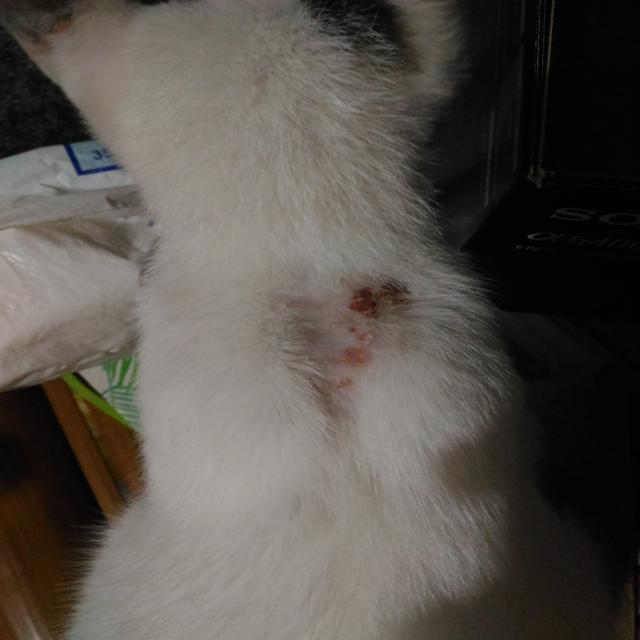hac lao: (264, 262, 418, 423)
